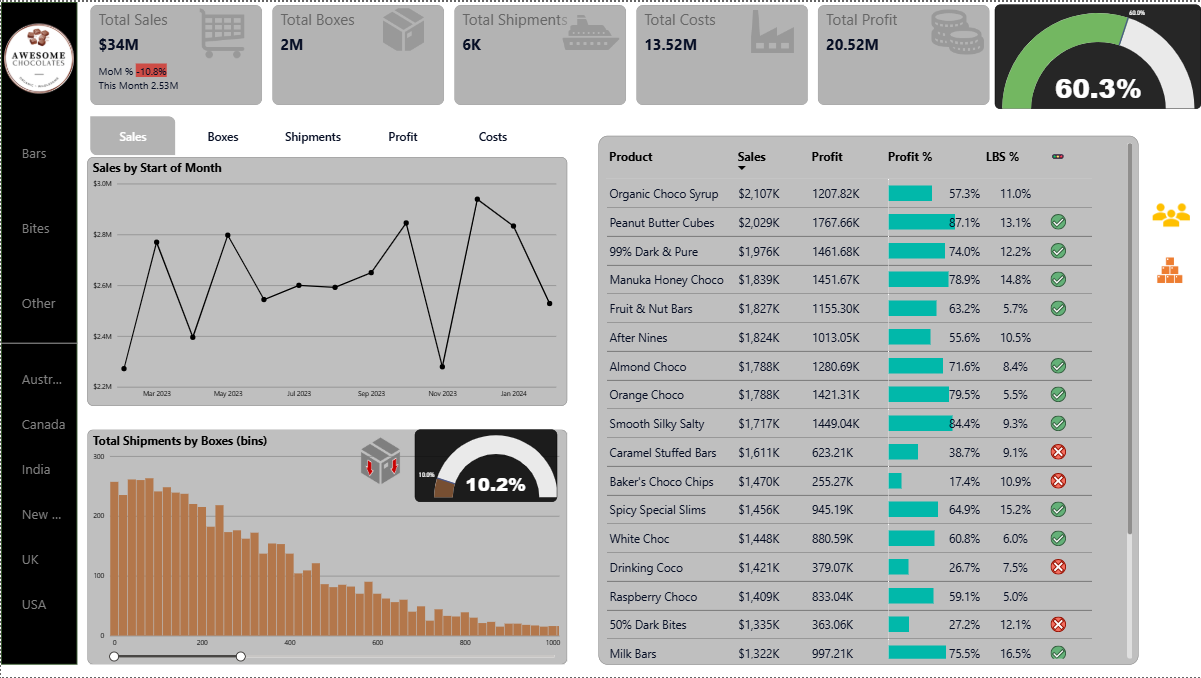

This screenshot's page, from the dashboard's own definition file:
{"tool":"powerbi","page":{"name":"Page 1","canvas":[1920,1080],"ordinal":0},"visuals":[{"type":"cardVisual","fields":{"Data":["_Measures.Total Sales","_Measures.Total Boxes","_Measures.Total Shipments","_Measures.Total Costs","_Measures.Total Profit"]},"box":[0,0,1590,184],"z":0},{"type":"actionButton","box":[230,10,74,80],"z":1000},{"type":"actionButton","box":[538,10,84,68],"z":2000},{"type":"actionButton","box":[840,10,100,80],"z":3000},{"type":"actionButton","box":[1158,10,100,86],"z":4000},{"type":"actionButton","box":[1480,16,98,80],"z":5000},{"type":"gauge","fields":{"Y":["_Measures.Profit %"]},"box":[1590,0,330,184],"z":6000},{"type":"lineChart","fields":{"Y":["_Measures.Total Costs"],"Category":["calendar.Start of Month"]},"box":[0,248,890,422],"z":7000},{"type":"clusteredColumnChart","fields":{"Category":["shipments.Boxes (bins)"],"Y":["_Measures.Total Shipments"]},"box":[0,684,890,396],"z":7500},{"type":"advancedSlicerVisual","fields":{"Values":["Measure Selector.Measure Selector"]},"box":[22,176,824,76],"z":8000},{"type":"gauge","fields":{"Y":["_Measures.LBS %"]},"box":[662,684,228,116],"z":10500},{"type":"image","box":[552,684,110,100],"z":10501}]}

Visuals, with their boxes on the page's 1920x1080 design canvas (x1, y1, x2, y2). These are canvas units, not pixel positions in the 1201x678 screenshot, which may show the page scaled, cropped or inside an application window:
cardVisual - _Measures.Total Sales x _Measures.Total Boxes: select_region(0, 0, 1590, 184)
actionButton: select_region(230, 10, 304, 90)
actionButton: select_region(538, 10, 622, 78)
actionButton: select_region(840, 10, 940, 90)
actionButton: select_region(1158, 10, 1258, 96)
actionButton: select_region(1480, 16, 1578, 96)
gauge - _Measures.Profit %: select_region(1590, 0, 1920, 184)
lineChart - _Measures.Total Costs x calendar.Start of Month: select_region(0, 248, 890, 670)
clusteredColumnChart - shipments.Boxes (bins) x _Measures.Total Shipments: select_region(0, 684, 890, 1080)
advancedSlicerVisual - Measure Selector.Measure Selector: select_region(22, 176, 846, 252)
gauge - _Measures.LBS %: select_region(662, 684, 890, 800)
image: select_region(552, 684, 662, 784)
